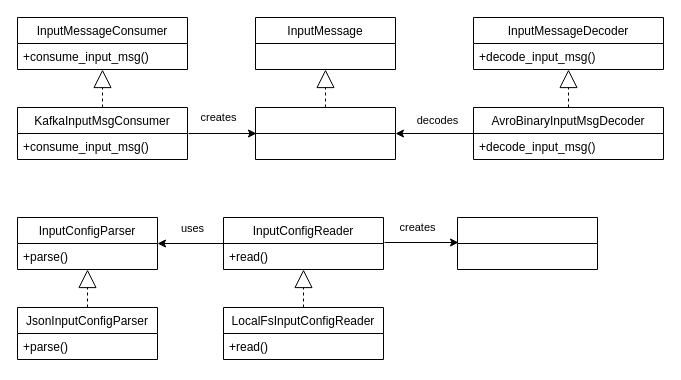
Some shapes in this 681 by 380 pixel diagram are drawn without their labels. The shapes that lost their labels are listed below. From the top down, each one's centre as x and y in pixels, then its label:
[325,133]: KafkaInputMessage
[527,243]: InputConfig
